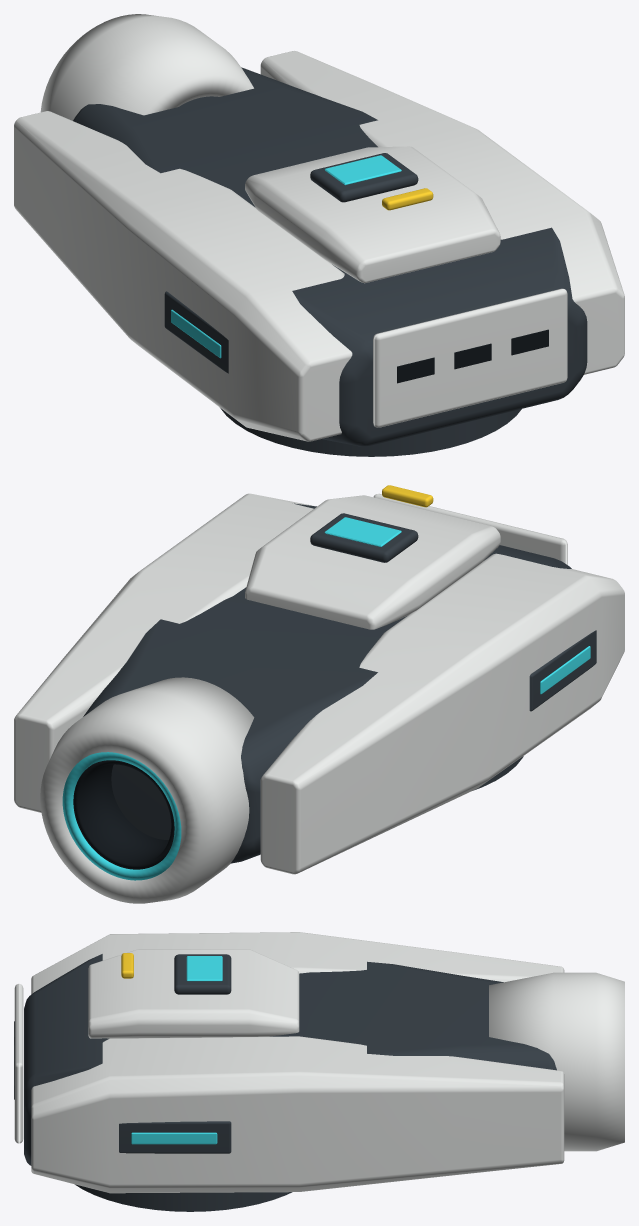
File: bubble_cannon.glb
The picture shows the model from 3 angles, top to bottom: view 1: azimuth 30°, elevation 25°; view 2: azimuth 150°, elevation 25°; view 3: azimuth 270°, elevation 25°; orthographic projection. The views are drawn at different scales.
Parts seen in each view (by area): view 1: Batch_109 porcelain.005, Batch_109 mechanism.005, Batch_109 porcelain.001, Batch_109 headlight.005, Batch_109 recess.005, Batch_109 yellow.005; view 2: Batch_109 porcelain.005, Batch_109 mechanism.005, Batch_109 porcelain.001, Batch_109 recess.001, Batch_109 headlight.001, Batch_109 headlight.005, Batch_109 yellow.005; view 3: Batch_109 porcelain.005, Batch_109 mechanism.005, Batch_109 porcelain.001, Batch_109 headlight.005.
Boxes of the visible parts, box(x1,y1,x2,y2) form: Batch_109 porcelain.005: box(14, 51, 624, 441); Batch_109 mechanism.005: box(73, 67, 587, 456); Batch_109 porcelain.001: box(40, 14, 253, 120); Batch_109 headlight.005: box(171, 155, 401, 358); Batch_109 recess.005: box(397, 329, 548, 383); Batch_109 yellow.005: box(382, 188, 433, 210); Batch_109 porcelain.005: box(14, 493, 624, 874); Batch_109 mechanism.005: box(83, 503, 596, 863); Batch_109 porcelain.001: box(40, 677, 254, 903); Batch_109 recess.001: box(73, 760, 174, 869); Batch_109 headlight.001: box(62, 752, 181, 880); Batch_109 headlight.005: box(324, 517, 590, 694); Batch_109 yellow.005: box(382, 485, 433, 507); Batch_109 porcelain.005: box(14, 932, 564, 1193); Batch_109 mechanism.005: box(24, 954, 556, 1211); Batch_109 porcelain.001: box(489, 972, 624, 1151); Batch_109 headlight.005: box(131, 956, 222, 1144).
Bounding box in the file's own units: 1.04 × 0.594 × 1.71.
